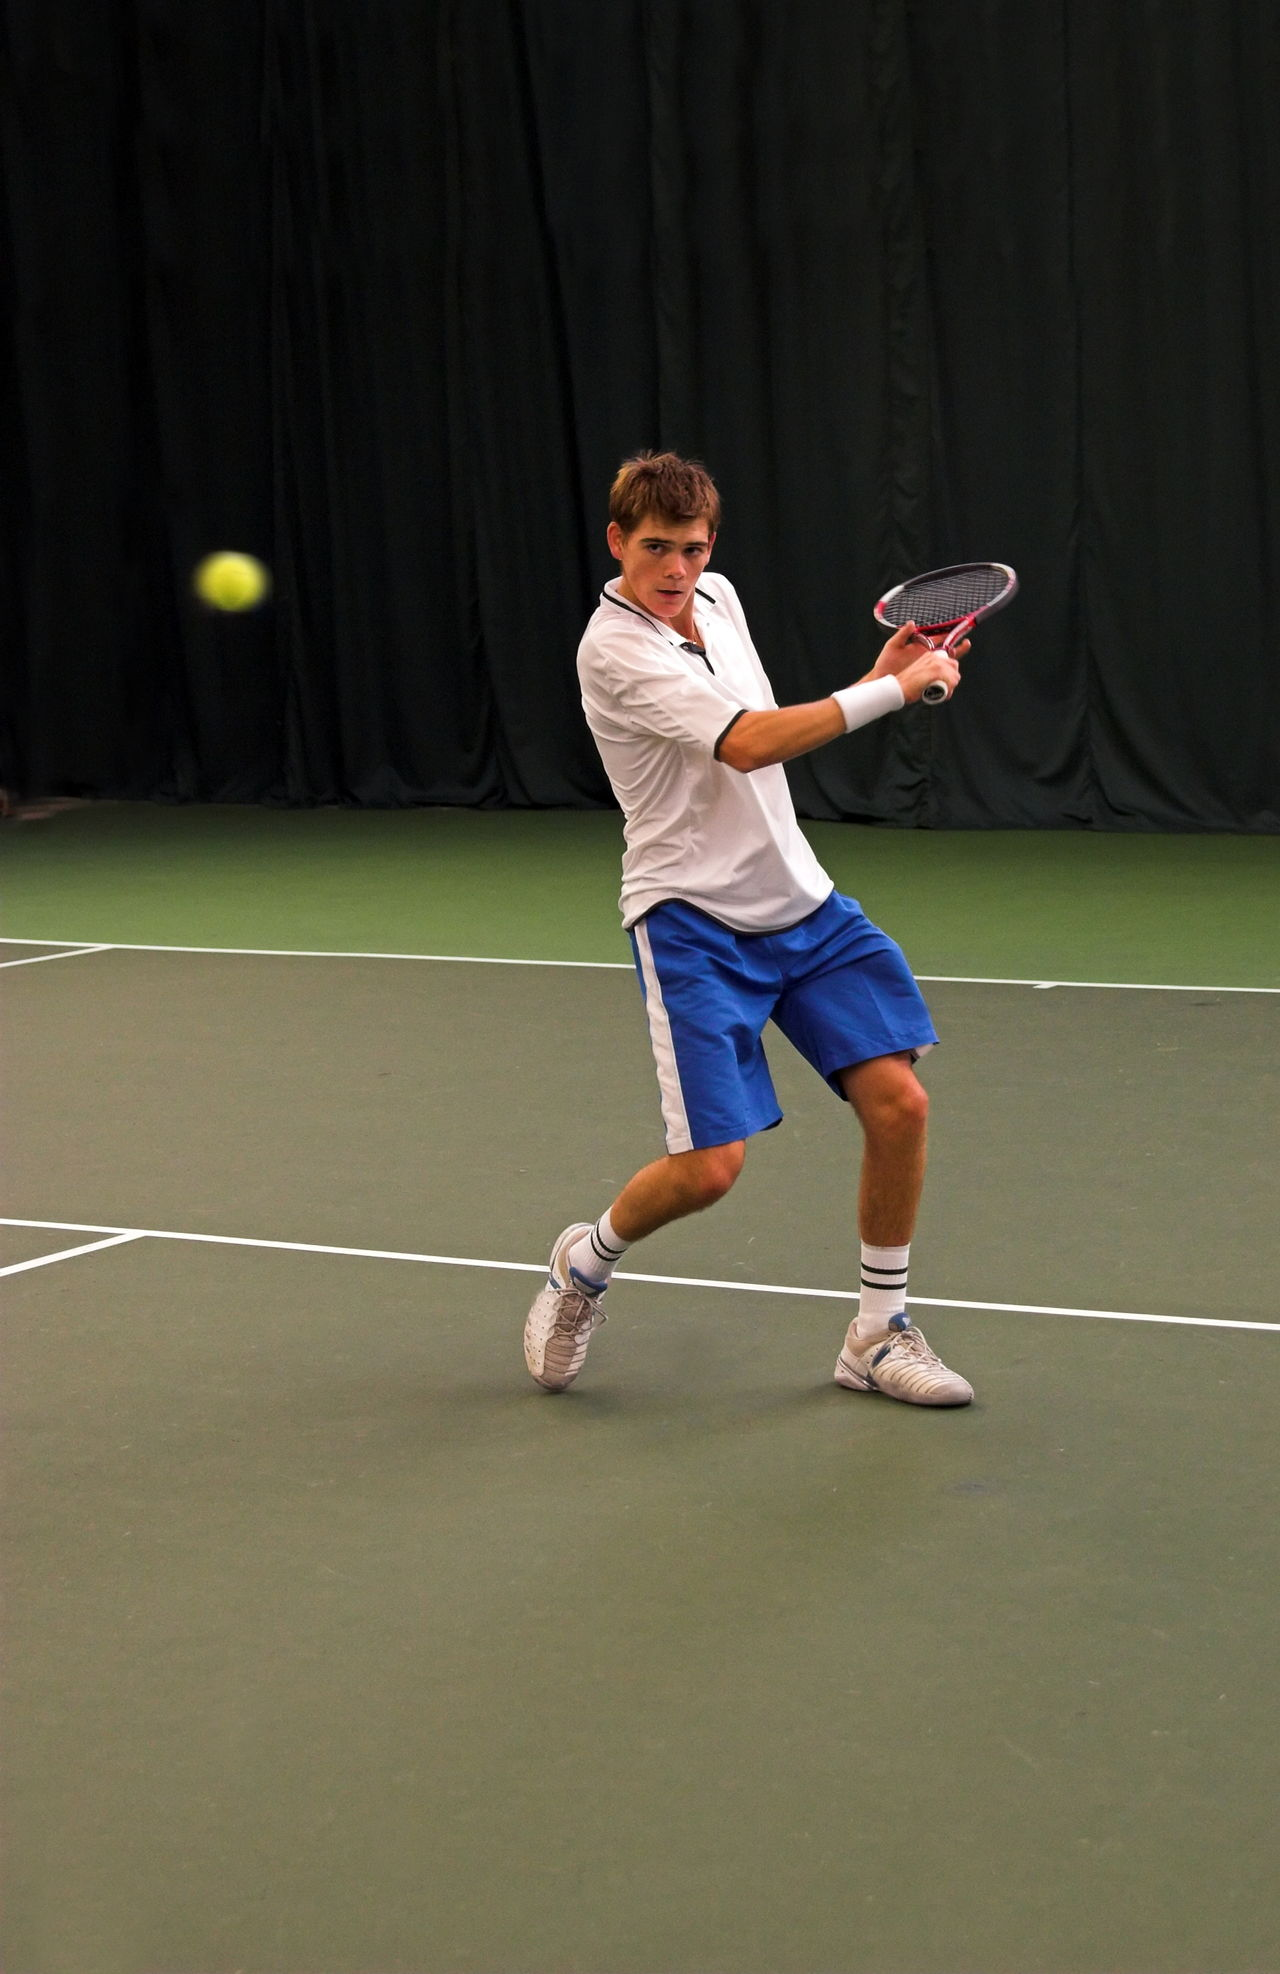tennis ball: (183, 550, 274, 614)
tennis player: (515, 455, 985, 1428)
